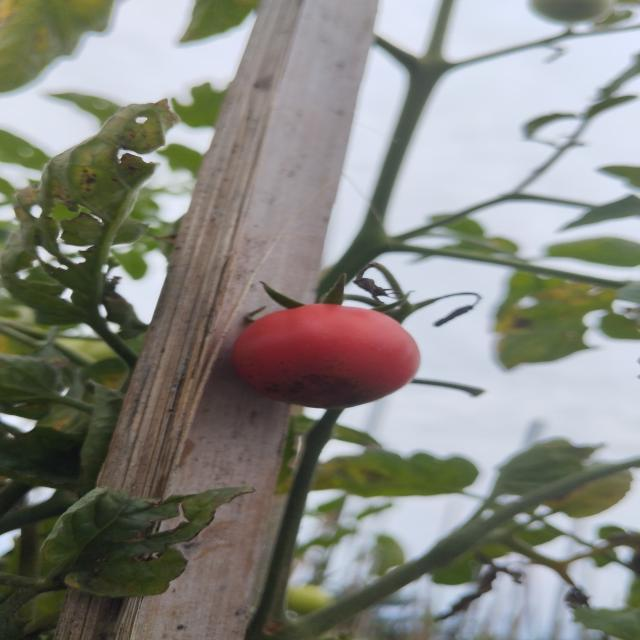Masak: (225, 278, 436, 416)
